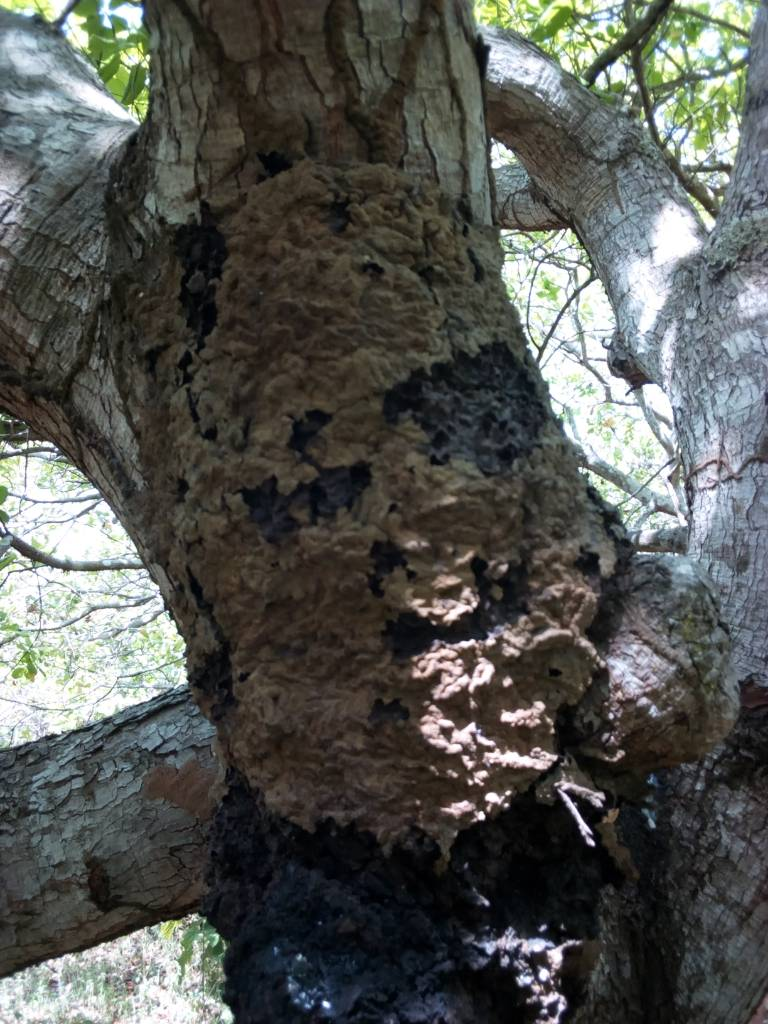Termites: (177, 182, 490, 872), (508, 494, 633, 825)
